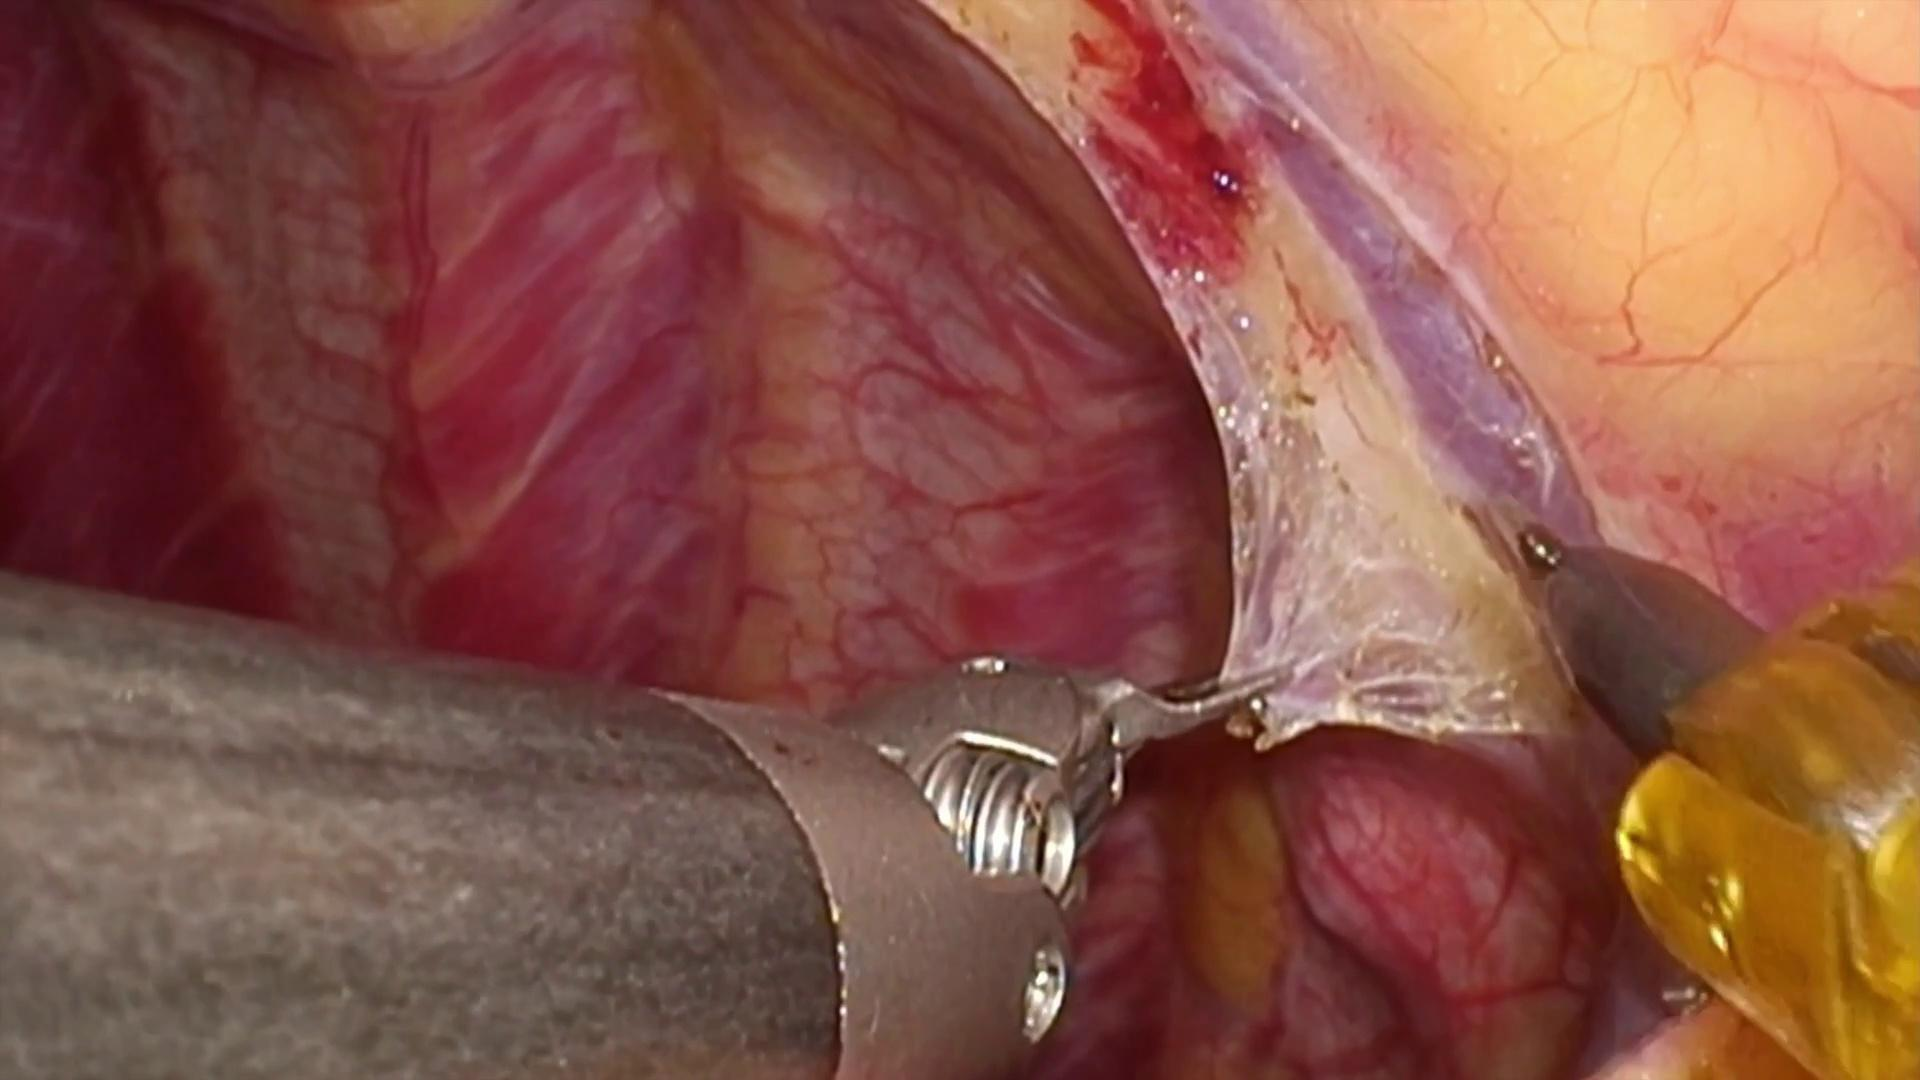Cautery_Spatula: (1476, 492, 1784, 785)
Debakey: (1065, 646, 1309, 796)
